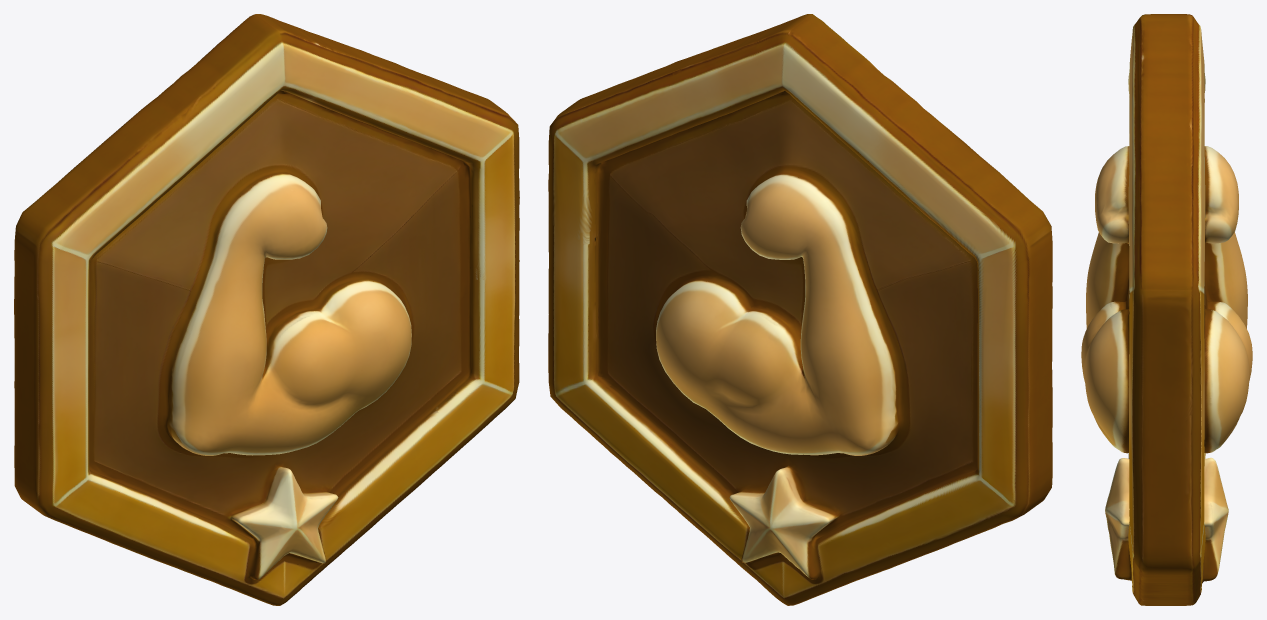
The model's file is gold.glb.
The picture shows the model from 3 angles, left to right: view 1: azimuth 30°, elevation 25°; view 2: azimuth 150°, elevation 25°; view 3: azimuth 270°, elevation 25°; orthographic projection. The views are drawn at different scales.
Visible parts, largest first — view 1: model; view 2: model; view 3: model.
Boxes of the visible parts, x1,y1,x2,y2 form: model: [14, 14, 519, 605]; model: [548, 14, 1052, 605]; model: [1081, 14, 1252, 605].
Bounding box in the file's own units: 1.67 × 1.9 × 0.4992.
1 material, 1 textured.
